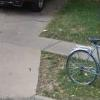Bicycle: (64, 35, 100, 90)
